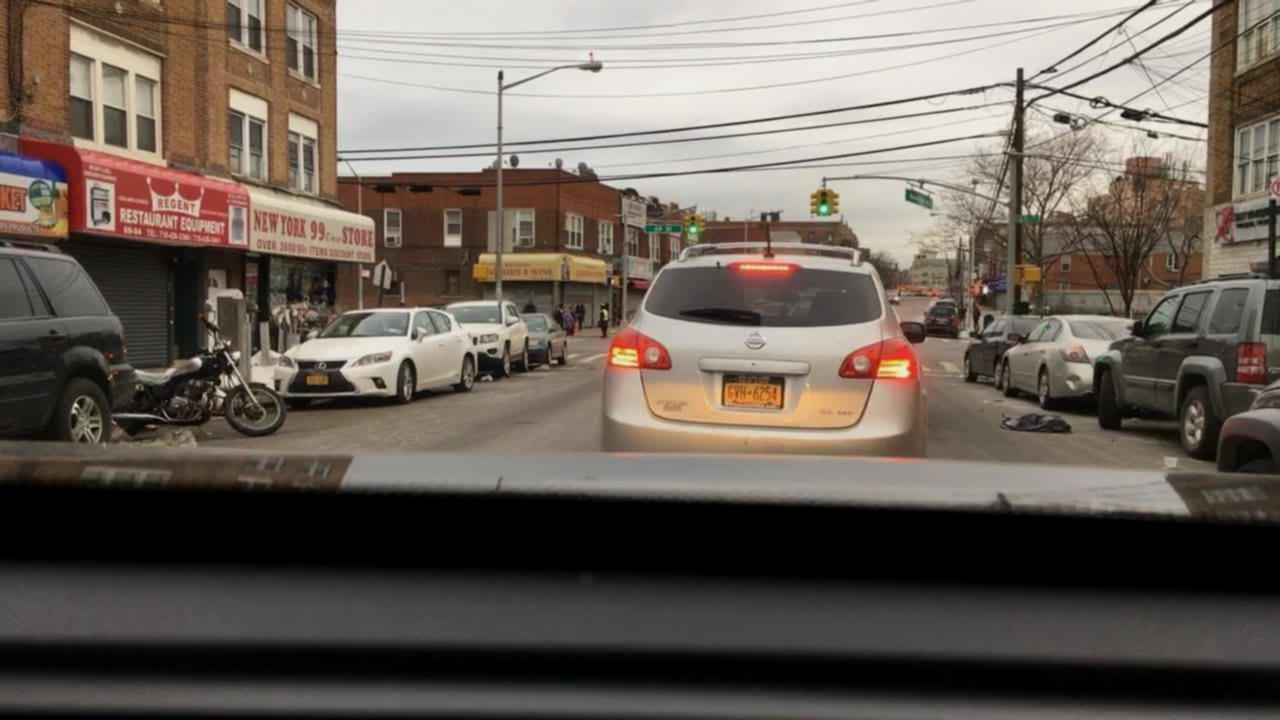Nissan: (735, 326, 775, 357)
lexus: (310, 356, 336, 374)
